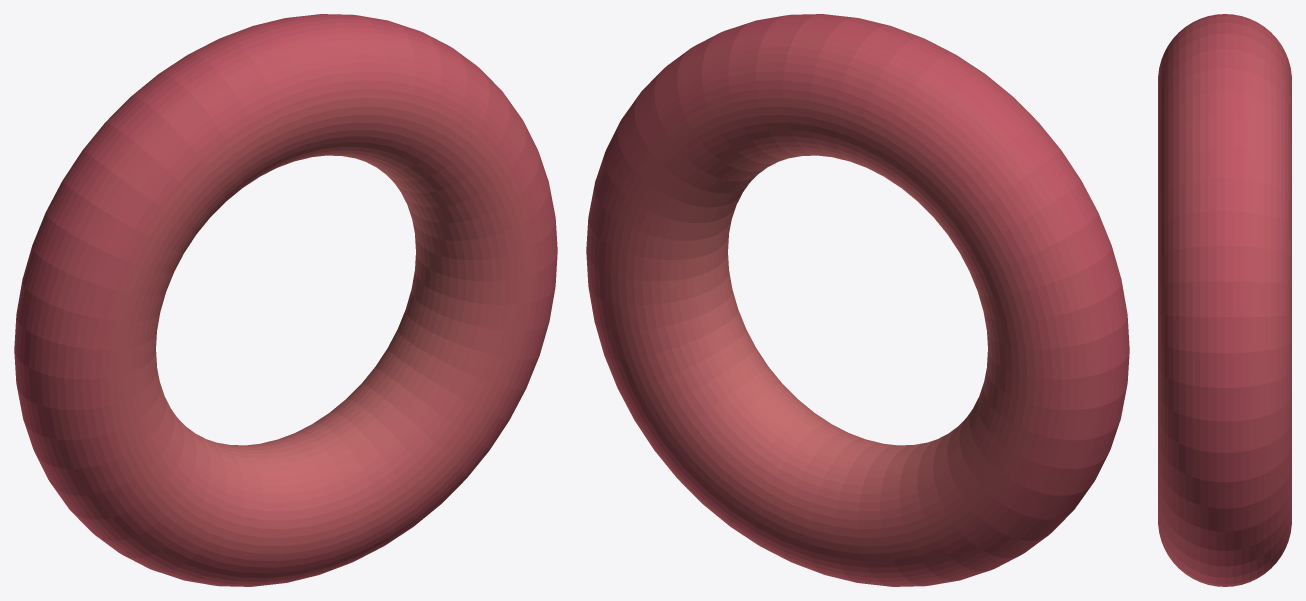
3 views of the same model, side by side, from view 1: azimuth 30°, elevation 25°; view 2: azimuth 150°, elevation 25°; view 3: azimuth 270°, elevation 25° (orthographic). The views are drawn at different scales.
Parts seen in each view (by area): view 1: world; view 2: world; view 3: world.
Part boxes in pixels (x1=…): world: x1=14, y1=14, x2=557, y2=586; world: x1=586, y1=14, x2=1129, y2=586; world: x1=1158, y1=14, x2=1291, y2=586.
Size of the model in its own units: 31.33 by 31.27 by 7.32.
